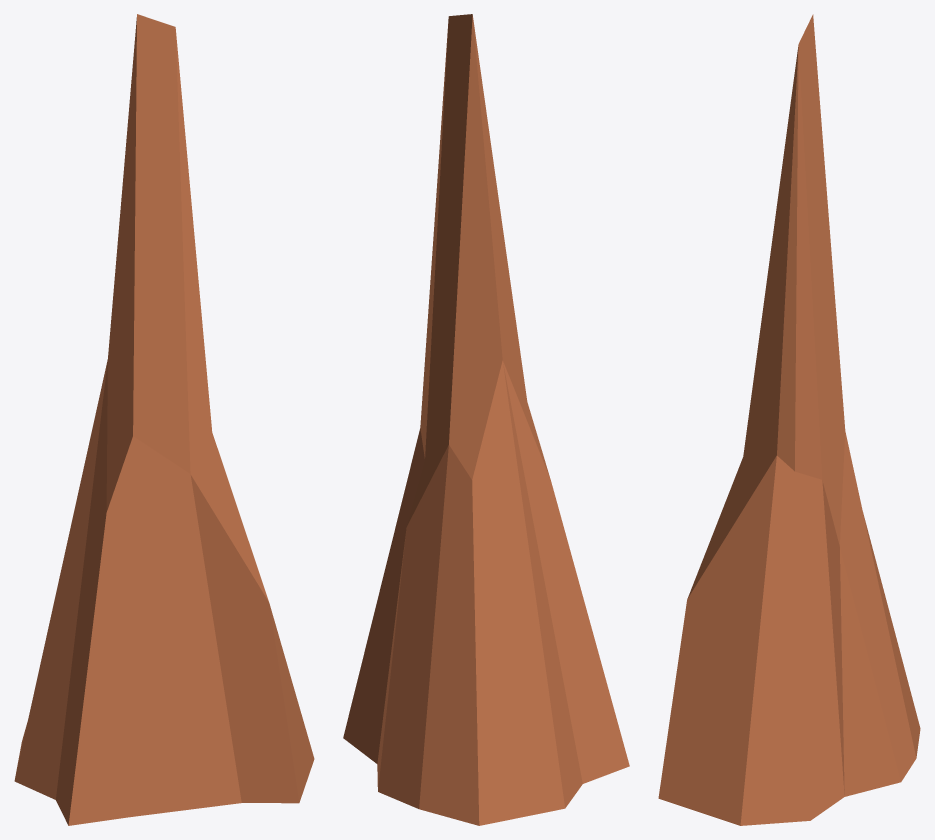
Rendered from Stalagmite_5.fbx.
The picture shows the model from 3 angles, left to right: view 1: azimuth 30°, elevation 25°; view 2: azimuth 150°, elevation 25°; view 3: azimuth 270°, elevation 25°; orthographic projection.
Visible parts, largest first — view 1: Stalagmite_5; view 2: Stalagmite_5; view 3: Stalagmite_5.
Part boxes in pixels (left/top/right/bottom): Stalagmite_5: left=14, top=14, right=314, bottom=825; Stalagmite_5: left=343, top=14, right=629, bottom=825; Stalagmite_5: left=658, top=14, right=920, bottom=825.
Bounding box in the file's own units: 48.69 × 138 × 44.15.
